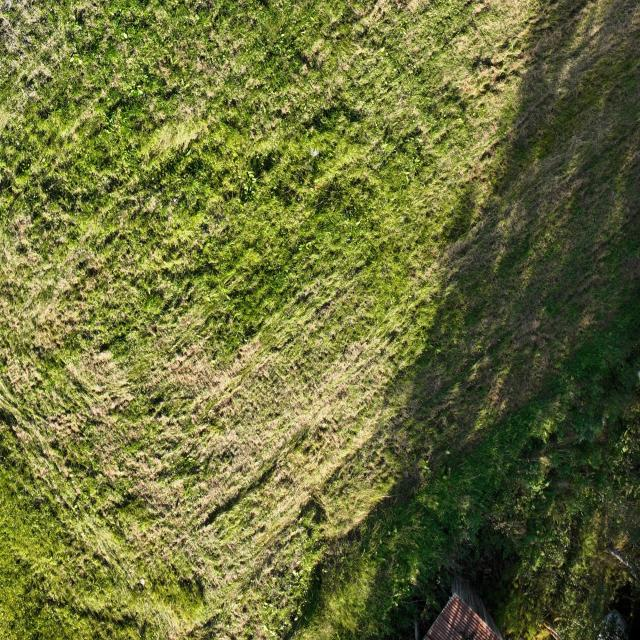rumex: (96, 164, 186, 255), (367, 133, 428, 216), (293, 22, 351, 92), (240, 82, 293, 144), (64, 12, 96, 77), (240, 72, 270, 99), (240, 168, 260, 204), (68, 46, 84, 70), (128, 84, 142, 98), (418, 459, 431, 474), (170, 55, 179, 66), (306, 242, 314, 251), (292, 568, 299, 578), (70, 51, 78, 59), (188, 456, 196, 464), (205, 296, 212, 304), (248, 170, 255, 178), (238, 203, 244, 212), (242, 182, 248, 190)
